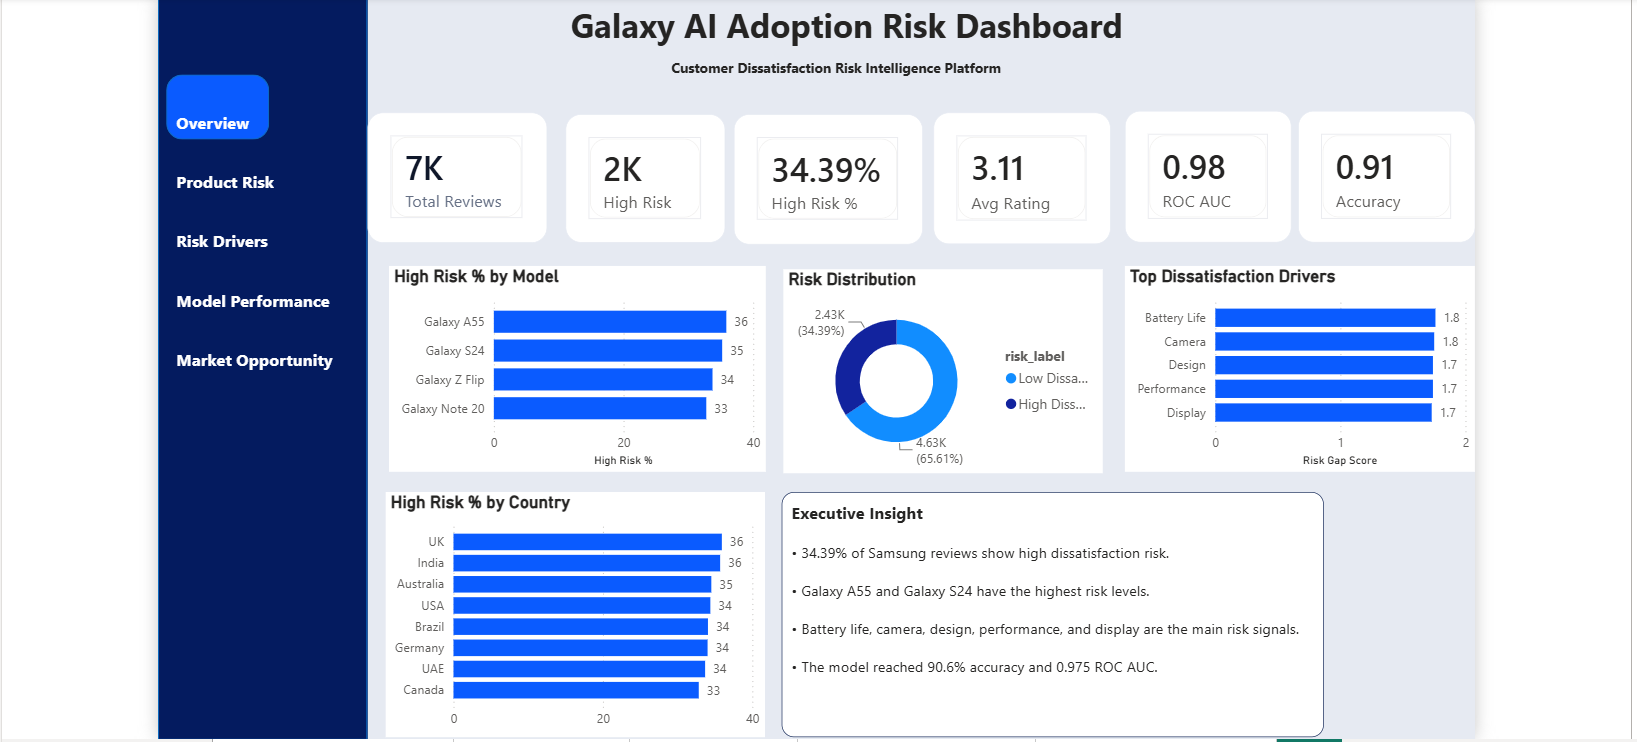

This screenshot's page, from the dashboard's own definition file:
{"tool":"powerbi","page":{"name":"Executive Overview","canvas":[1280,720],"ordinal":0},"visuals":[{"type":"shape","box":[0,0,203.3,721.7],"z":0},{"type":"shape","box":[8.8,75.4,100,63.1],"z":1000},{"type":"textbox","box":[396.4,0,736.6,61.4],"z":2000},{"type":"textbox","box":[493.3,55,365,40],"z":3000},{"type":"cardVisual","fields":{"Data":["samsung_reviews_with_risk.Total Samsung Reviews"]},"box":[203.6,112.2,174.7,126.6],"z":4000},{"type":"cardVisual","fields":{"Data":["samsung_reviews_with_risk.High Risk Reviews"]},"box":[396.7,113.3,155,125],"z":5000},{"type":"cardVisual","fields":{"Data":["samsung_reviews_with_risk.High Risk Percentage"]},"box":[560,113.3,183.3,126.7],"z":6000},{"type":"cardVisual","fields":{"Data":["samsung_model_metrics.Model Accuracy"]},"box":[1108,110.4,172,128],"z":7000},{"type":"cardVisual","fields":{"Data":["samsung_model_metrics.ROC AUC"]},"box":[940,110,162,128],"z":8000},{"type":"cardVisual","fields":{"Data":["samsung_reviews_with_risk.Average Rating"]},"box":[754,112.4,172,128],"z":9000},{"type":"donutChart","title":"Risk Distribution","fields":{"Category":["samsung_reviews_with_risk.risk_label"],"Y":["CountNonNull(samsung_reviews_with_risk.review_id)"]},"box":[608,264,310,198],"z":10000},{"type":"clusteredBarChart","title":"High Risk % by Model","fields":{"Category":["samsung_model_risk_summary.model"],"Y":["Sum(samsung_model_risk_summary.high_risk_percentage)"]},"box":[224,262,366,200],"z":11000},{"type":"clusteredBarChart","title":"Top Dissatisfaction Drivers","fields":{"Category":["samsung_feature_gap_summary.Clean Feature Name"],"Y":["Sum(samsung_feature_gap_summary.risk_gap)"]},"box":[940,262,340,200],"z":12000},{"type":"textbox","box":[606.7,481.7,526.7,238.3],"z":13000},{"type":"clusteredBarChart","title":"High Risk % by Country","fields":{"Category":["samsung_country_risk_summary.country"],"Y":["Sum(samsung_country_risk_summary.high_risk_percentage)"]},"box":[221.7,481.7,368.3,238.3],"z":14000},{"type":"textbox","box":[13.3,88.3,216.7,350],"z":16000}]}

Visuals, with their boxes on the page's 1280x720 design canvas (x1, y1, x2, y2). These are canvas units, not pixel positions in the 1637x742 screenshot, which may show the page scaled, cropped or inside an application window:
shape: [left=0, top=0, right=203, bottom=722]
shape: [left=9, top=75, right=109, bottom=138]
textbox: [left=396, top=0, right=1133, bottom=61]
textbox: [left=493, top=55, right=858, bottom=95]
cardVisual - samsung_reviews_with_risk.Total Samsung Reviews: [left=204, top=112, right=378, bottom=239]
cardVisual - samsung_reviews_with_risk.High Risk Reviews: [left=397, top=113, right=552, bottom=238]
cardVisual - samsung_reviews_with_risk.High Risk Percentage: [left=560, top=113, right=743, bottom=240]
cardVisual - samsung_model_metrics.Model Accuracy: [left=1108, top=110, right=1280, bottom=238]
cardVisual - samsung_model_metrics.ROC AUC: [left=940, top=110, right=1102, bottom=238]
cardVisual - samsung_reviews_with_risk.Average Rating: [left=754, top=112, right=926, bottom=240]
"Risk Distribution" donutChart: [left=608, top=264, right=918, bottom=462]
"High Risk % by Model" clusteredBarChart: [left=224, top=262, right=590, bottom=462]
"Top Dissatisfaction Drivers" clusteredBarChart: [left=940, top=262, right=1280, bottom=462]
textbox: [left=607, top=482, right=1133, bottom=720]
"High Risk % by Country" clusteredBarChart: [left=222, top=482, right=590, bottom=720]
textbox: [left=13, top=88, right=230, bottom=438]
